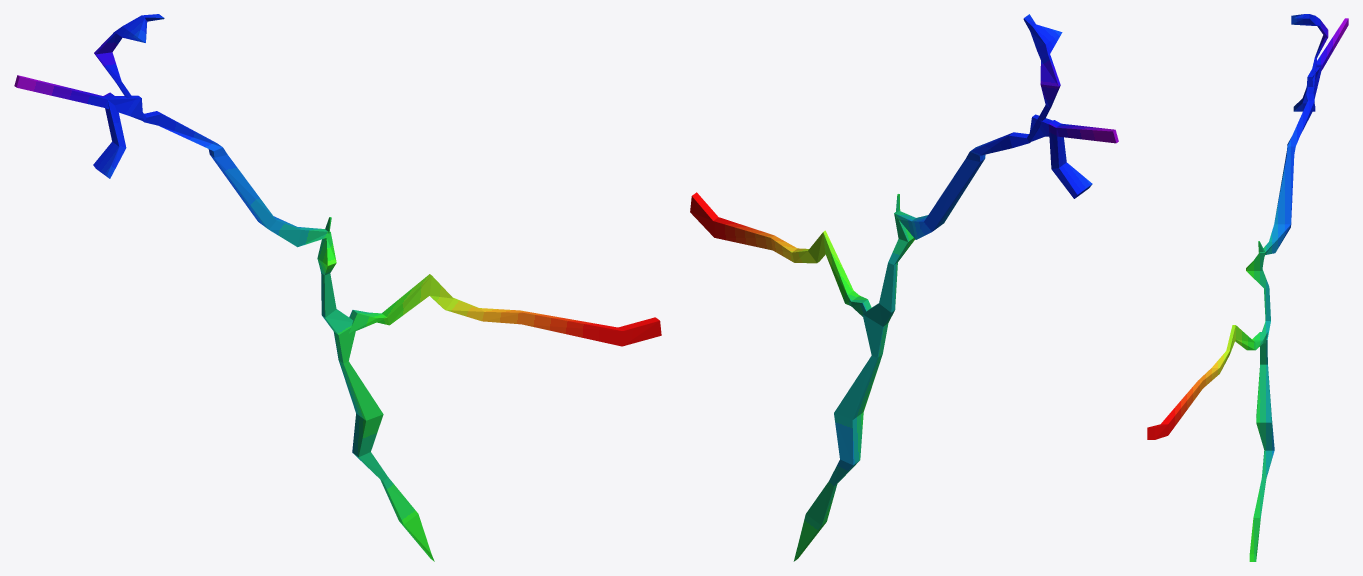
The model's file is maxpleasure.gltf.
3 renders of one model, left to right at view 1: azimuth 30°, elevation 25°; view 2: azimuth 150°, elevation 25°; view 3: azimuth 270°, elevation 25°, orthographic. The views are drawn at different scales.
Size of the model in its own units: 192 by 206 by 83.22.
Materials: 1 (1 with a texture image).
